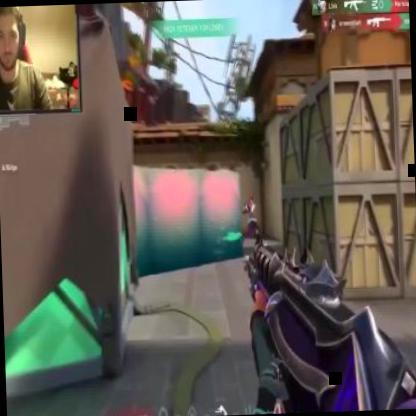enemy: (242, 195, 260, 249)
enemy_head: (247, 195, 253, 205)
